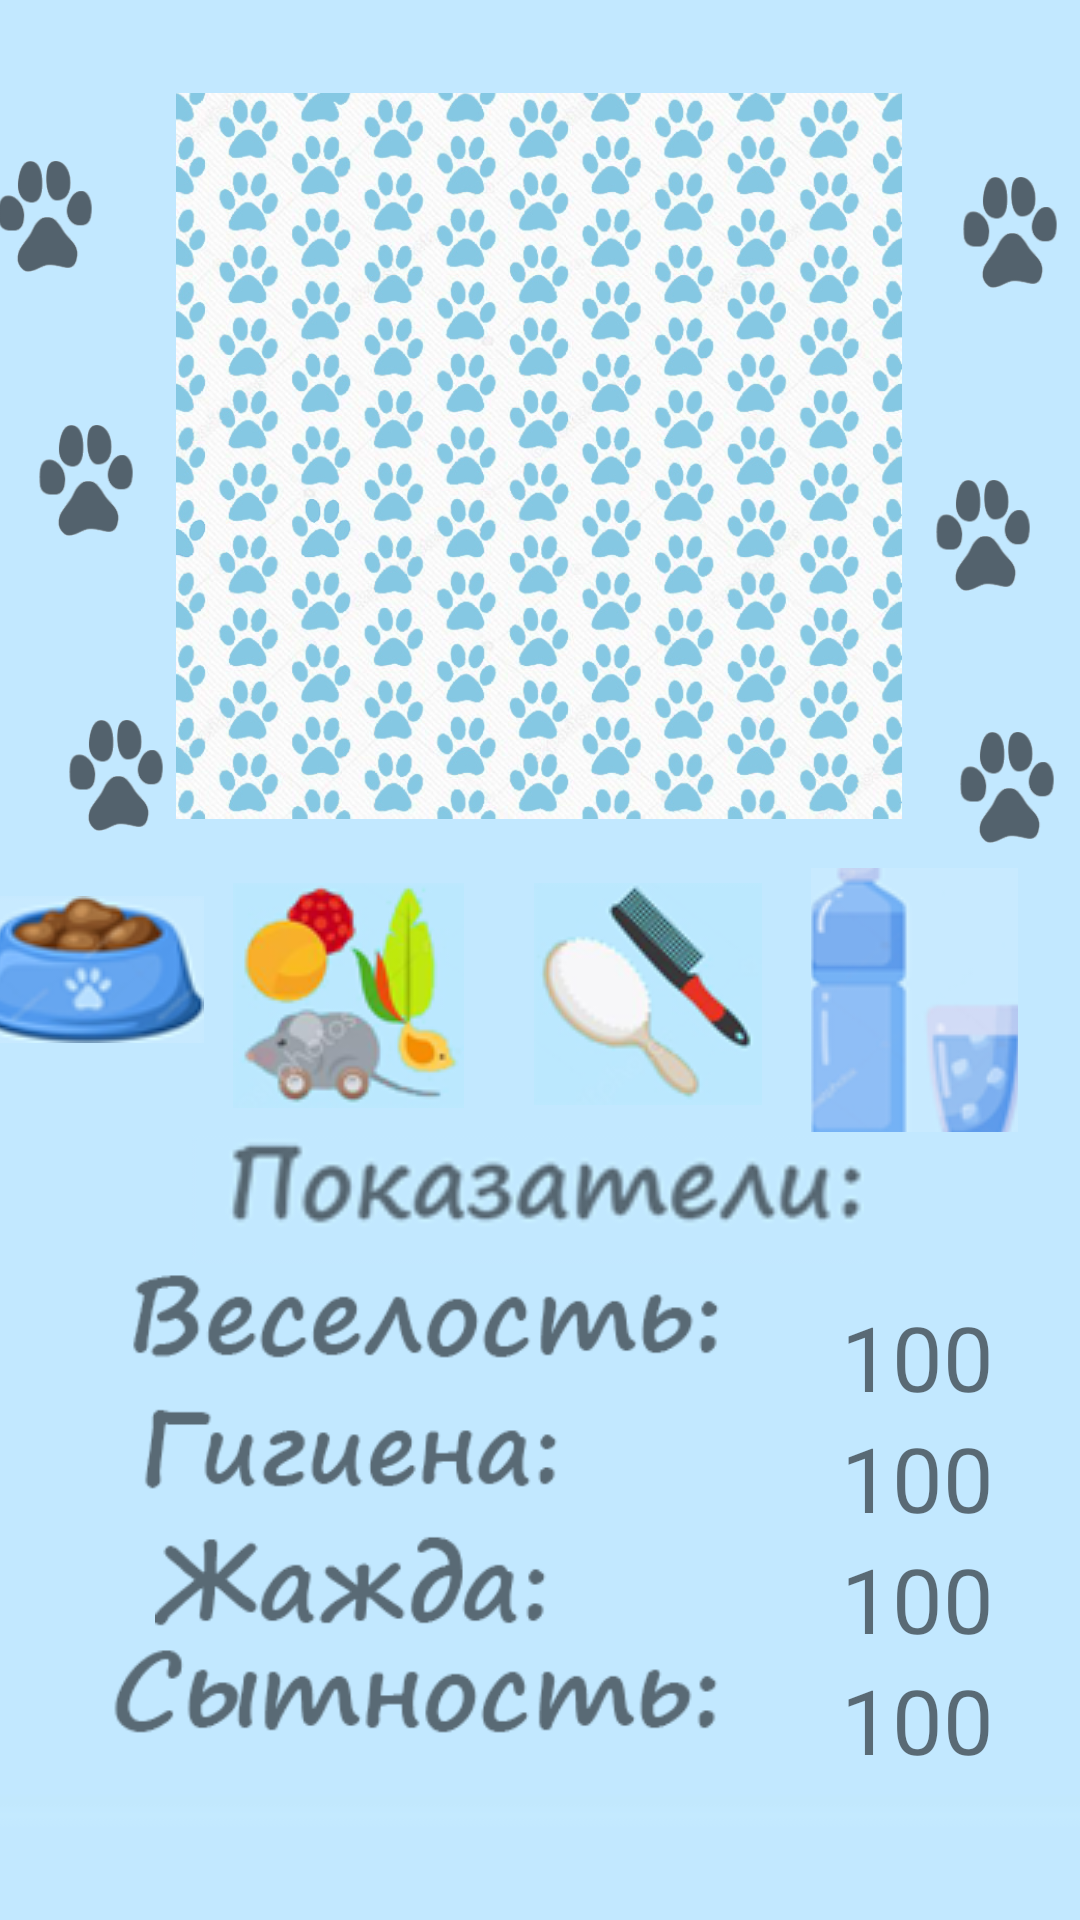

Locate icon controls on the screen. Image size 1080w x 1920h, boxes as bbox(x1, y1, x2, y2).
drink: bbox(811, 868, 1018, 1132)
play: bbox(244, 888, 456, 1102)
wash: bbox(542, 887, 751, 1097)
